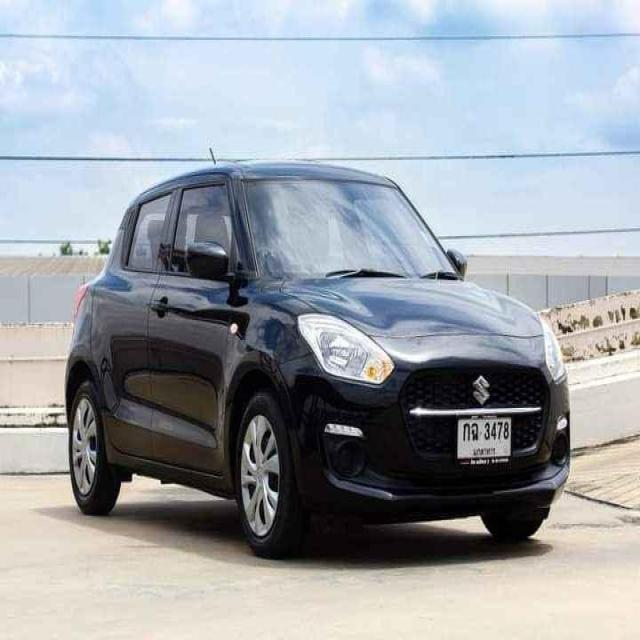Hatchback: (64, 161, 573, 561)
